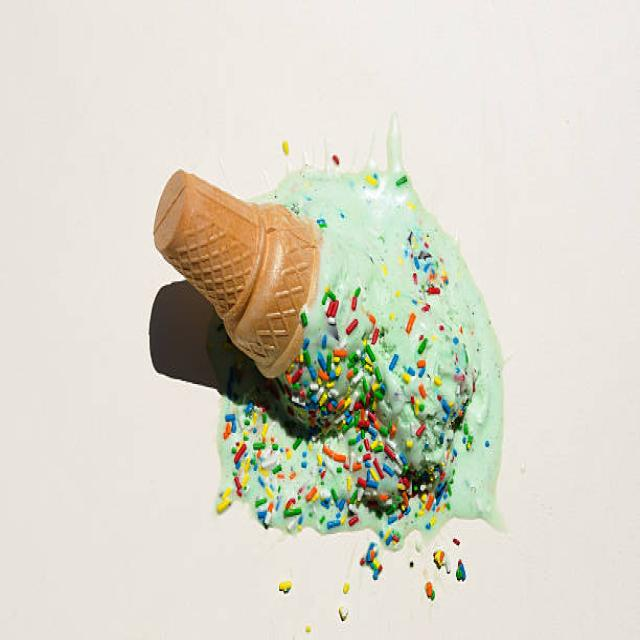trash: (128, 126, 498, 554)
